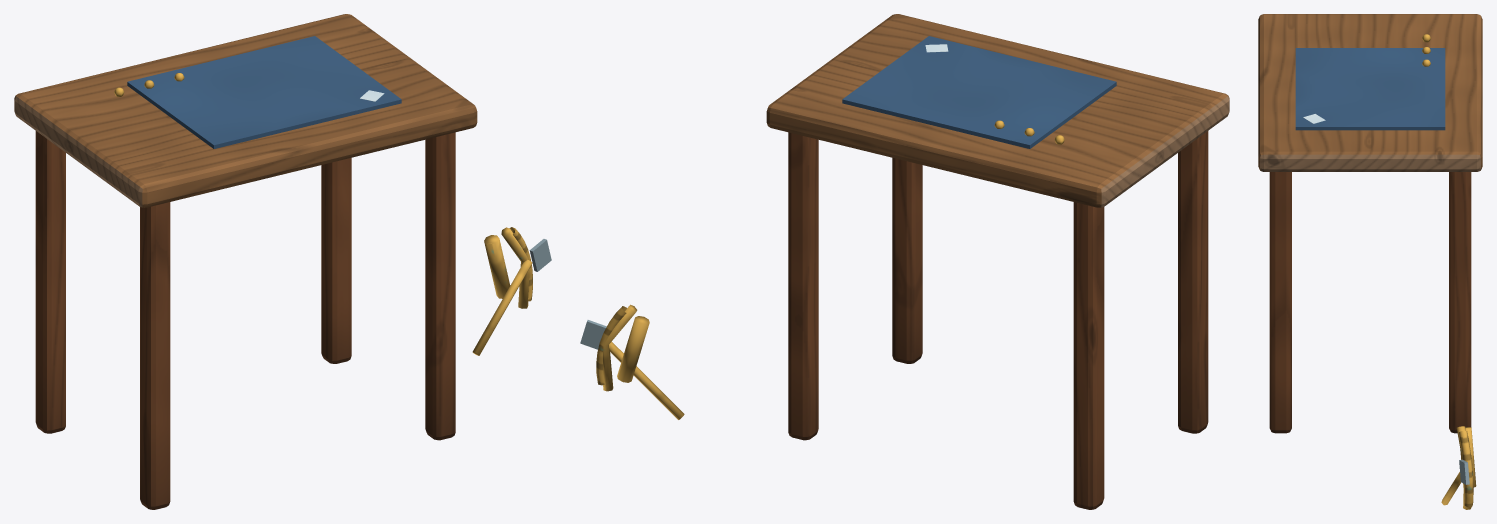
File: sextant_broken.glb
3 renders of one model, left to right at view 1: azimuth 30°, elevation 25°; view 2: azimuth 150°, elevation 25°; view 3: azimuth 270°, elevation 25°, orthographic. The views are drawn at different scales.
Parts seen in each view (by area): view 1: SextantTable; view 2: SextantTable; view 3: SextantTable.
Part boxes in pixels (<box>): SextantTable: <box>14,14,551,509</box>; SextantTable: <box>580,14,1229,509</box>; SextantTable: <box>1258,14,1482,509</box>.
Size of the model in its own units: 1.41 by 0.9316 by 0.6.
1 material, 1 textured.
